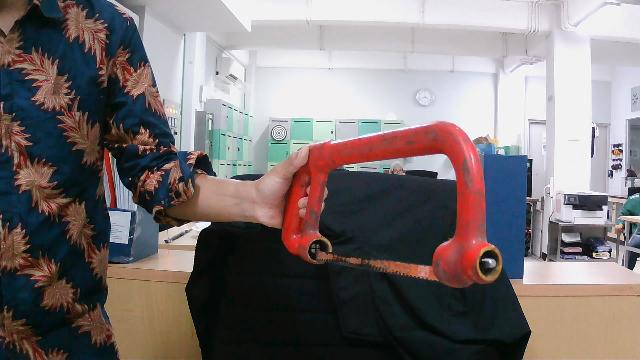gergaji_besi: (280, 105, 505, 300)
